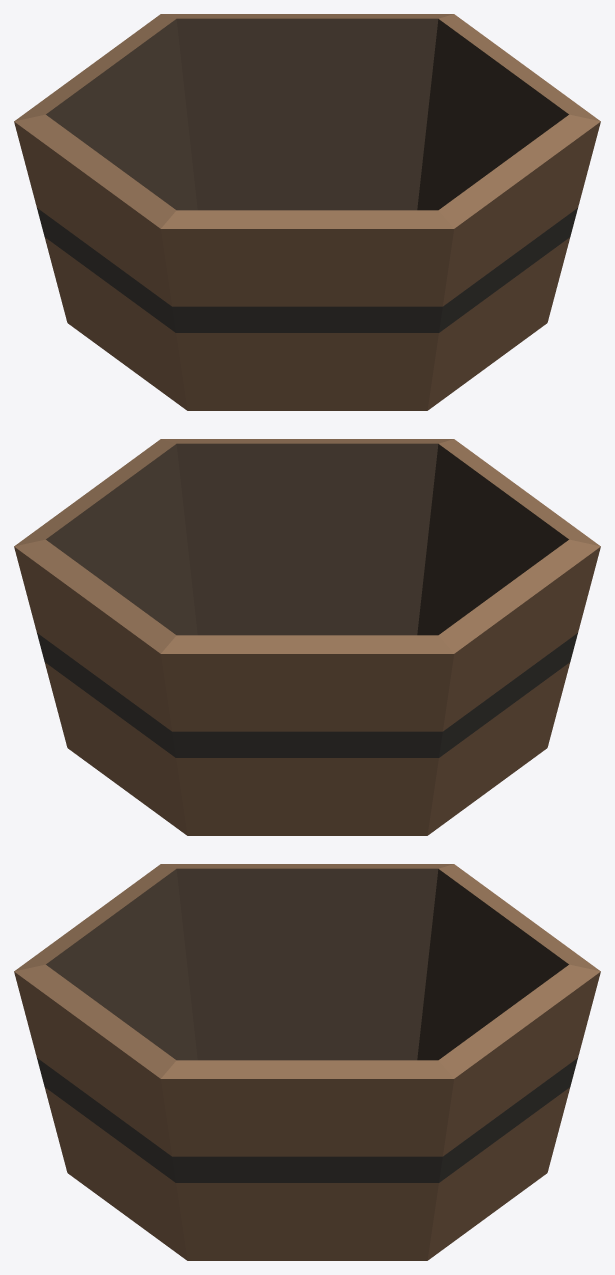
The model's file is TB_D_Prop_BucketBig_A.FBX.
3 renders of one model, top to bottom at view 1: azimuth 30°, elevation 25°; view 2: azimuth 150°, elevation 25°; view 3: azimuth 270°, elevation 25°, orthographic.
Visible parts, largest first — view 1: TB_D_Prop_BucketBig_A; view 2: TB_D_Prop_BucketBig_A; view 3: TB_D_Prop_BucketBig_A.
Boxes of the visible parts, x1,y1,x2,y2 form: TB_D_Prop_BucketBig_A: (14, 14, 600, 410); TB_D_Prop_BucketBig_A: (14, 439, 600, 835); TB_D_Prop_BucketBig_A: (14, 864, 600, 1260).
Bounding box in the file's own units: 0.9353 × 0.4233 × 1.08.
